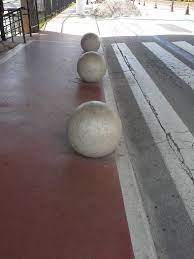obstacle: (66, 102, 125, 162), (78, 50, 107, 85), (78, 32, 104, 55)
